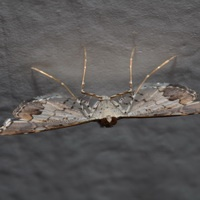insect: (0, 48, 199, 134)
